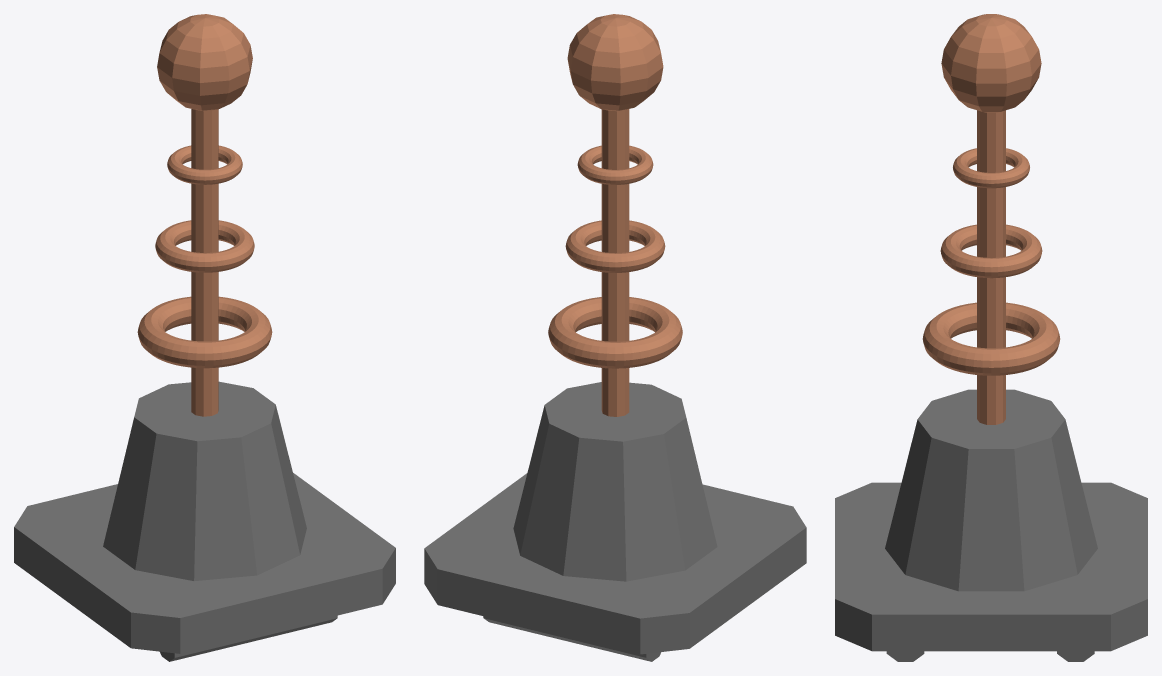
Rendered from control-unit.fbx.
3 renders of one model, left to right at view 1: azimuth 30°, elevation 25°; view 2: azimuth 150°, elevation 25°; view 3: azimuth 270°, elevation 25°, orthographic. The views are drawn at different scales.
Visible parts, largest first — view 1: Cube, Cylinder, Sphere, Cylinder.001, Torus, Torus.001, Torus.002, Cube.001; view 2: Cube, Cylinder, Sphere, Cylinder.001, Torus, Torus.001, Torus.002, Cube.002; view 3: Cylinder, Cube, Sphere, Cylinder.001, Torus, Torus.001, Torus.002.
Part boxes in pixels (<box>): Cube: <box>14,473,395,653</box>; Cylinder: <box>103,381,306,581</box>; Sphere: <box>157,14,252,111</box>; Cylinder.001: <box>191,109,218,416</box>; Torus: <box>137,296,272,368</box>; Torus.001: <box>155,220,254,272</box>; Torus.002: <box>167,145,242,184</box>; Cube.001: <box>160,615,337,661</box>; Cube: <box>424,473,806,654</box>; Cylinder: <box>513,382,717,581</box>; Sphere: <box>567,14,663,111</box>; Cylinder.001: <box>601,109,629,416</box>; Torus: <box>548,297,682,368</box>; Torus.001: <box>565,220,665,272</box>; Torus.002: <box>577,145,653,184</box>; Cube.002: <box>483,616,661,661</box>; Cylinder: <box>885,389,1097,591</box>; Cube: <box>835,482,1147,651</box>; Sphere: <box>941,14,1041,112</box>; Cylinder.001: <box>977,110,1005,424</box>; Torus: <box>922,302,1060,375</box>; Torus.001: <box>940,224,1042,278</box>; Torus.002: <box>953,148,1029,188</box>.
Bounding box in the file's own units: 325 × 693 × 325.
